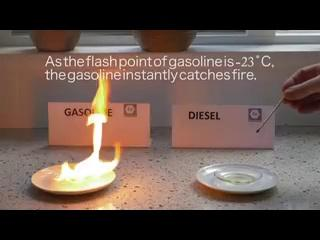Fire: (58, 68, 123, 186)
